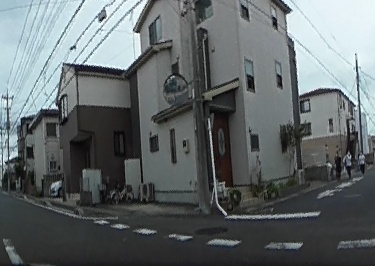person: (341, 149, 352, 176), (358, 150, 365, 174), (374, 147, 375, 174)
